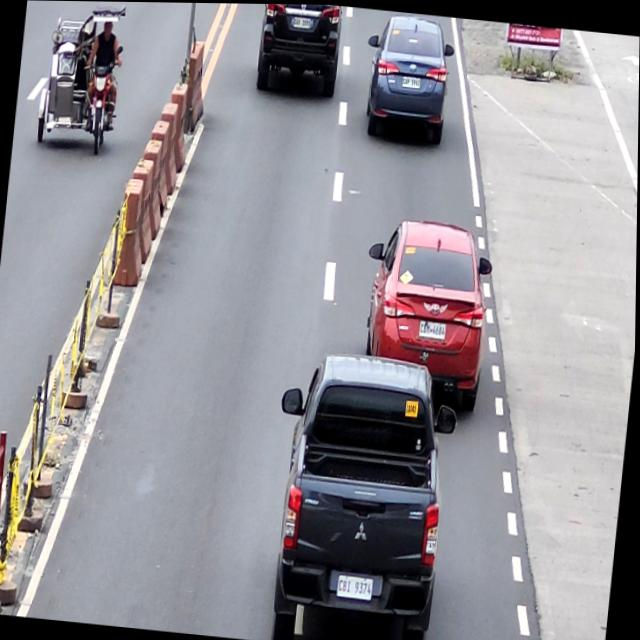Car: (259, 346, 463, 640), (355, 216, 498, 417), (357, 13, 459, 144), (255, 3, 343, 99)
License-Plate: (338, 572, 375, 597), (419, 317, 447, 339), (291, 15, 311, 30), (400, 74, 421, 88)
